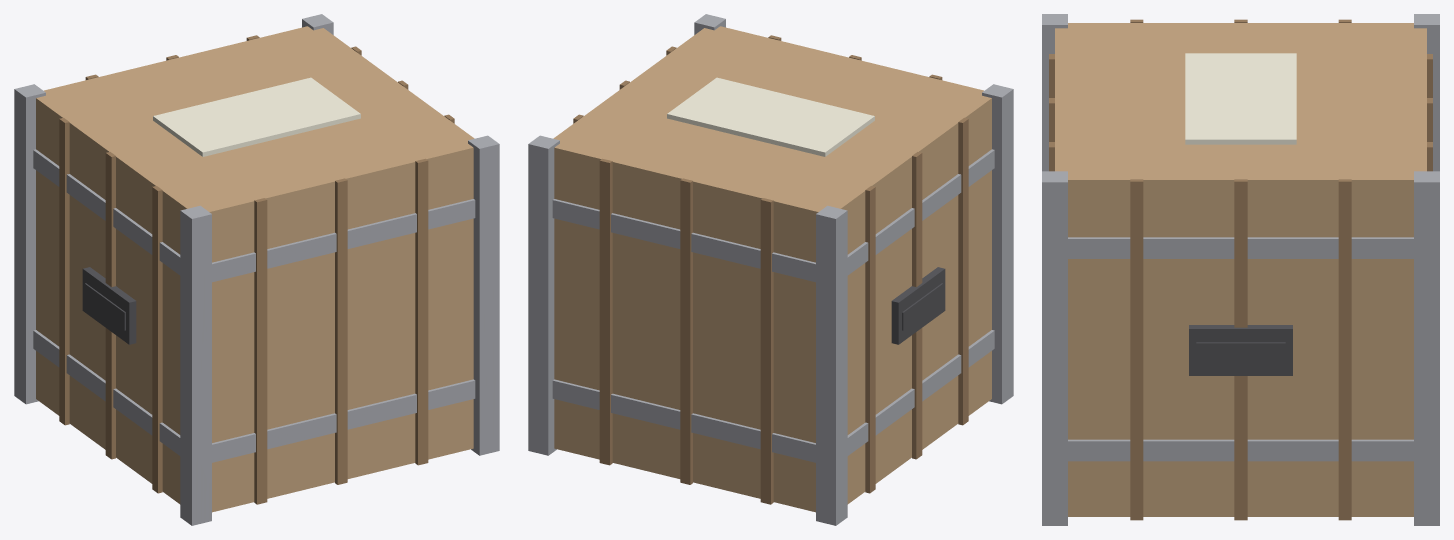
Rendered from cargo_crate.glb.
3 renders of one model, left to right at view 1: azimuth 30°, elevation 25°; view 2: azimuth 150°, elevation 25°; view 3: azimuth 270°, elevation 25°, orthographic. The views are drawn at different scales.
Parts seen in each view (by area): view 1: cargo_crate; view 2: cargo_crate; view 3: cargo_crate.
Boxes of the visible parts, x1,y1,x2,y2 form: cargo_crate: [14, 14, 499, 525]; cargo_crate: [528, 14, 1013, 525]; cargo_crate: [1042, 14, 1439, 525].
Size of the model in its own units: 1.07 by 1.02 by 1.07.
